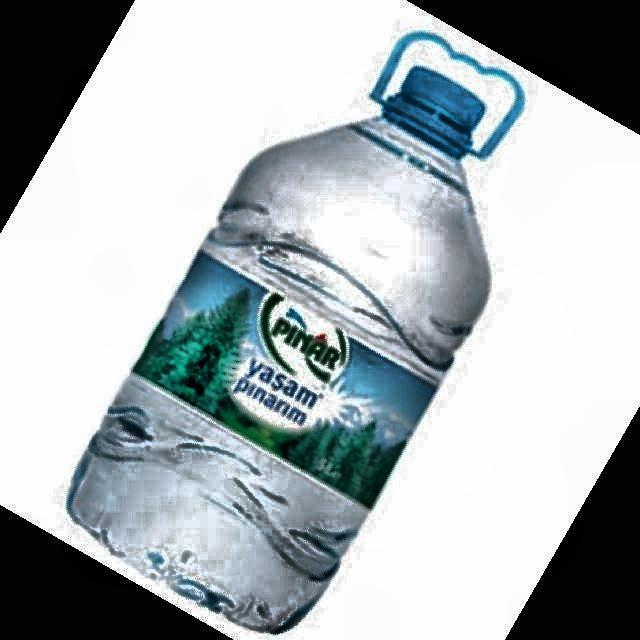plastic: (68, 32, 524, 632)
